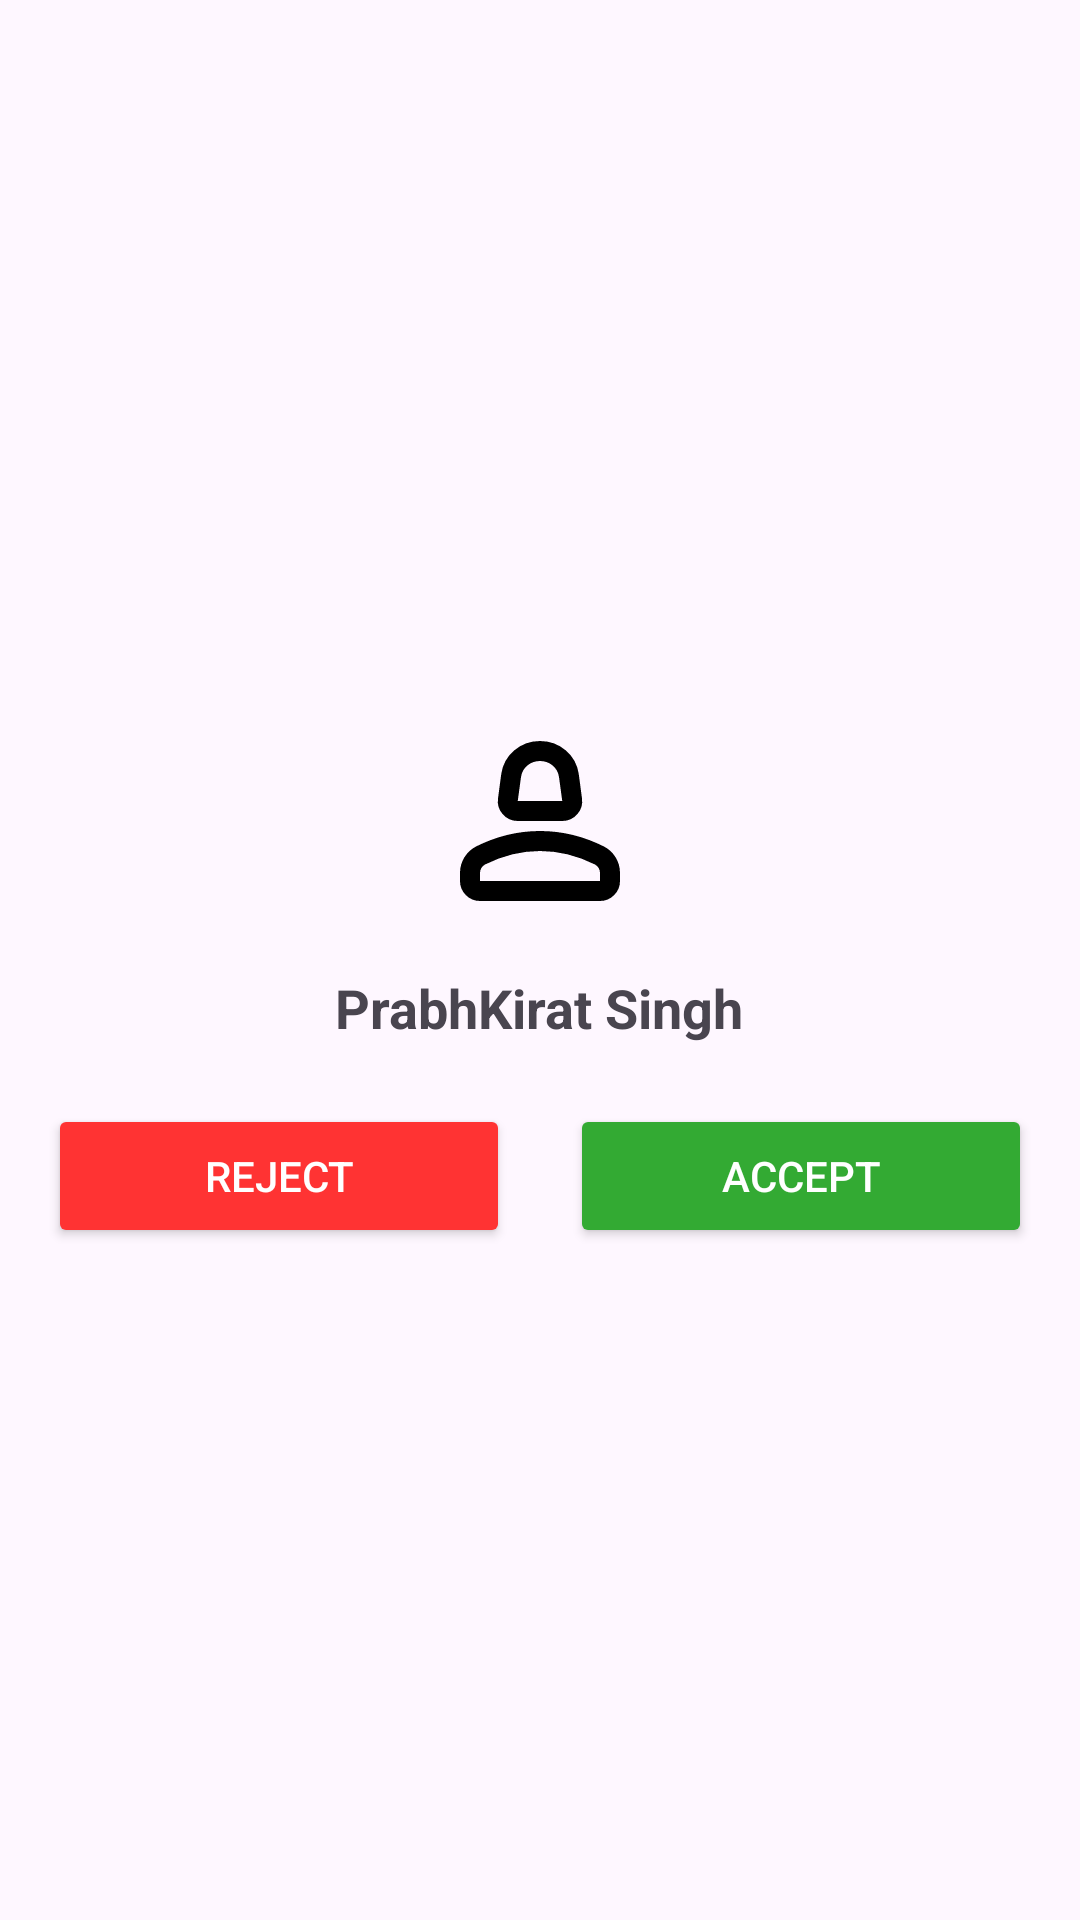

Icon bounding boxes for this 1080px×1920px phone screenshot, format (x1, y1, x2, y2):
person: (460, 741, 620, 901)
